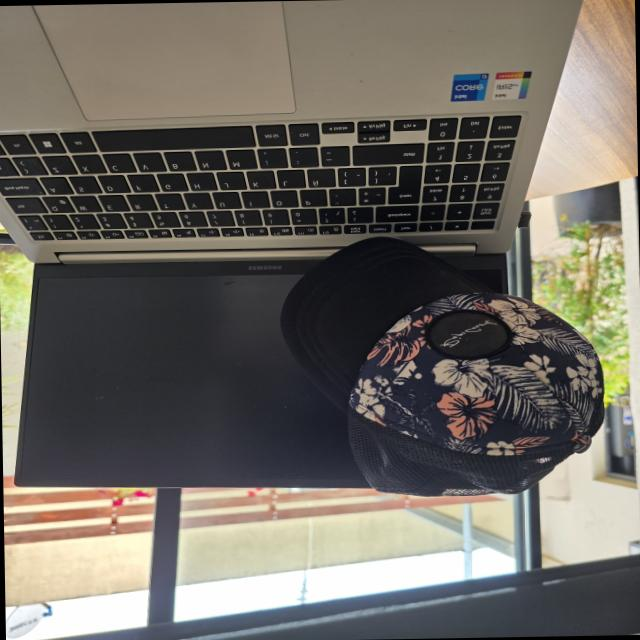Gorra: (278, 233, 603, 502), (266, 391, 276, 392)
